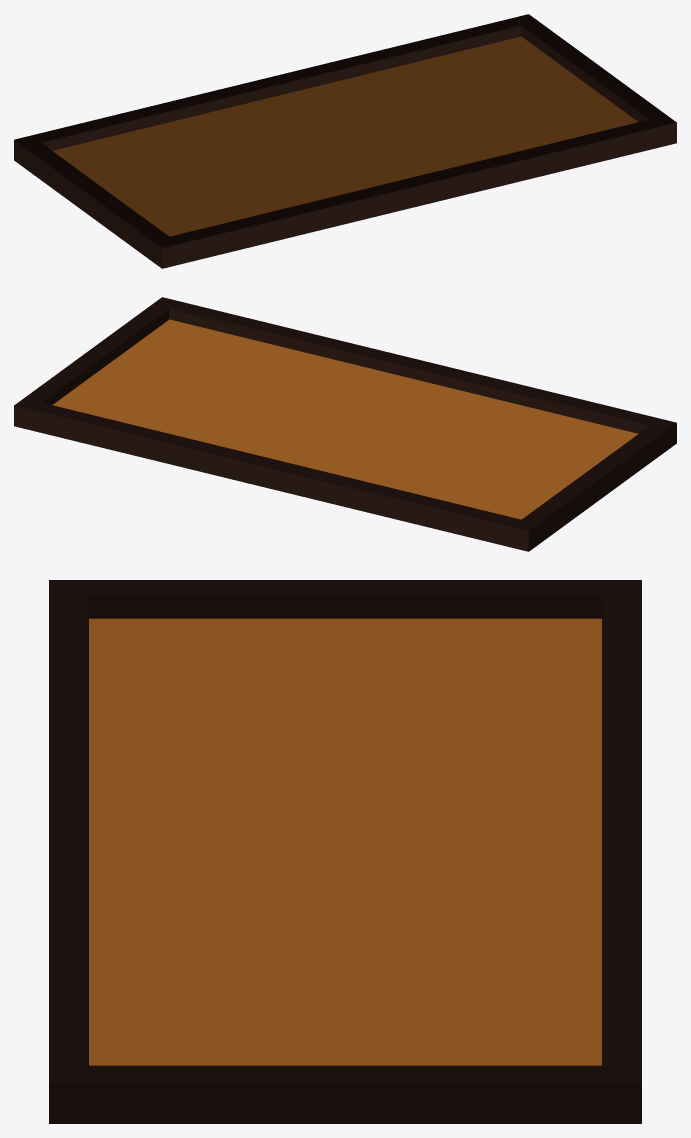
Rendered from Tray.fbx.
3 views of the same model, one above another, from view 1: azimuth 30°, elevation 25°; view 2: azimuth 150°, elevation 25°; view 3: azimuth 270°, elevation 25° (orthographic). The views are drawn at different scales.
Parts seen in each view (by area): view 1: Node 0; view 2: Node 0; view 3: Node 0.
Boxes of the visible parts, x1=… form: Node 0: x1=14, y1=14, x2=676, y2=268; Node 0: x1=14, y1=297, x2=676, y2=551; Node 0: x1=49, y1=580, x2=641, y2=1123.
Bounding box in the file's own units: 0.3315 × 0.0255 × 0.6649.
